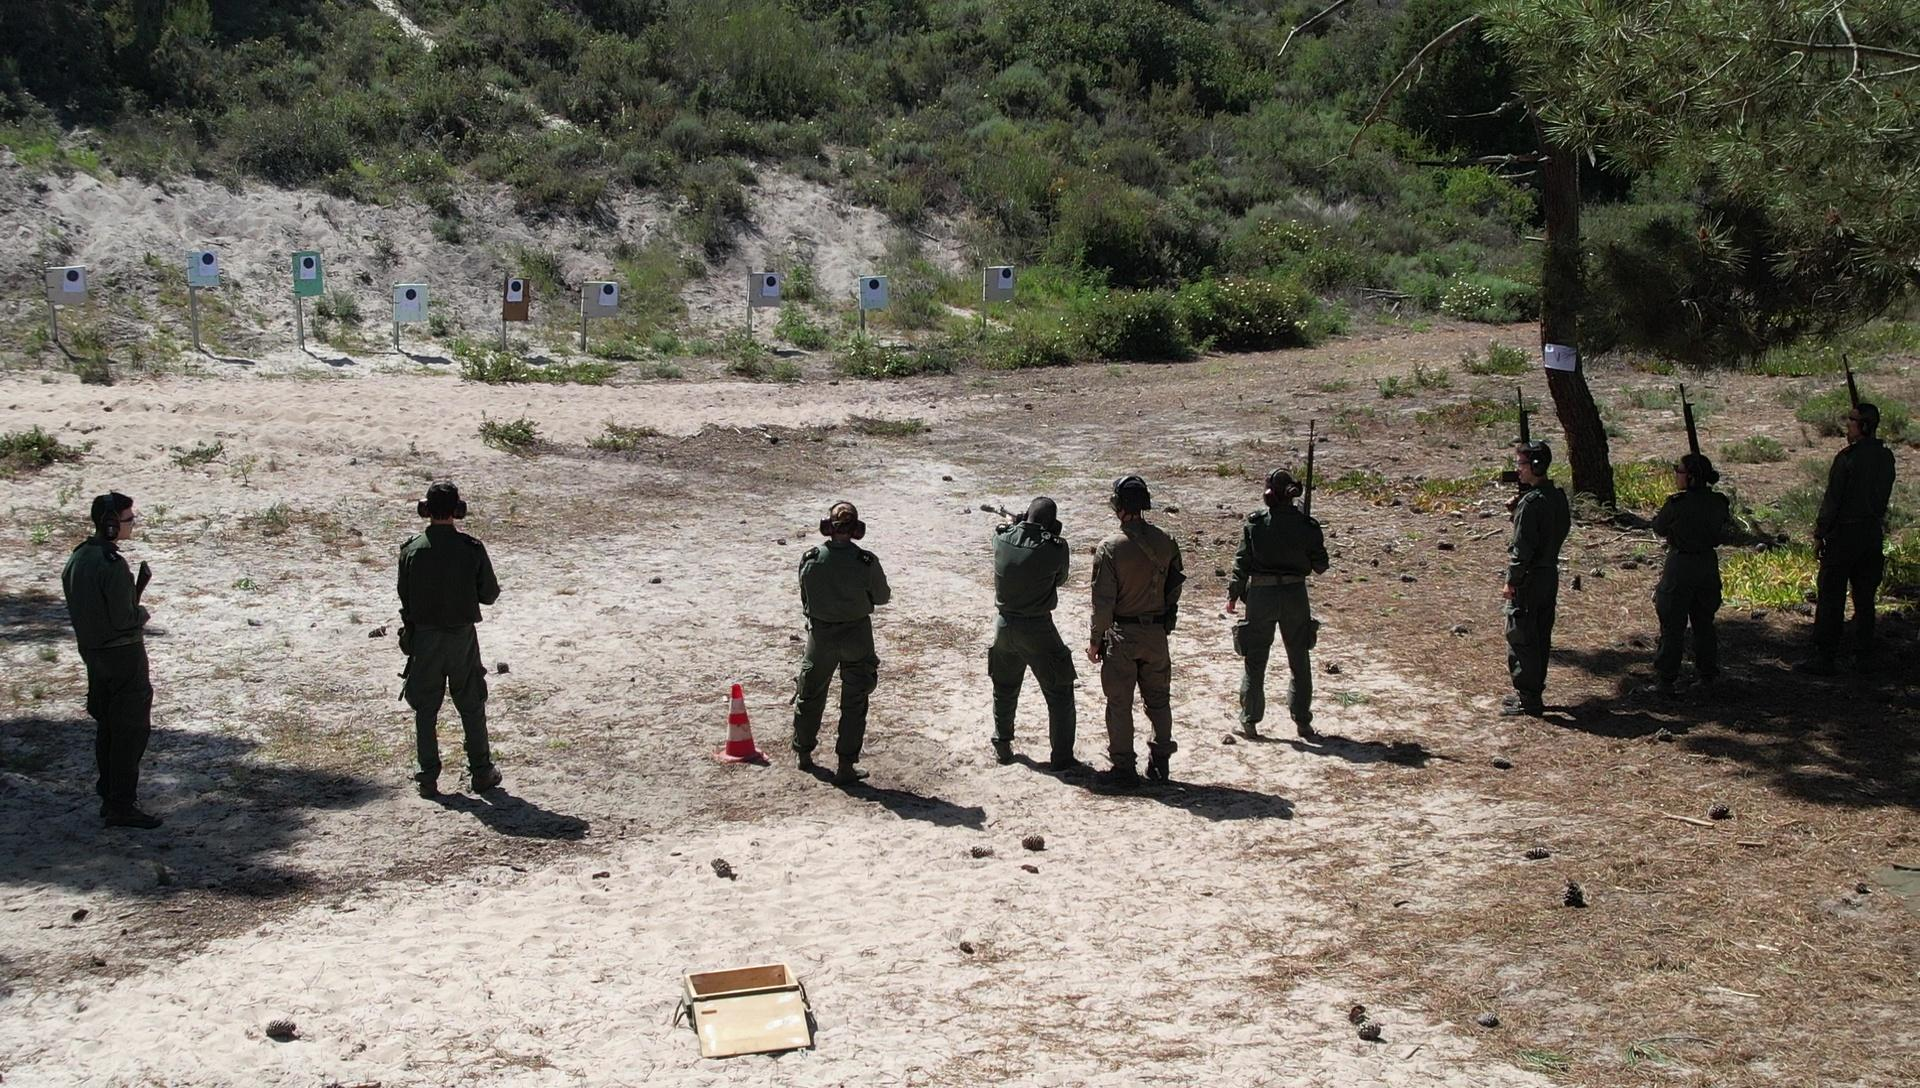Soldier: (353, 462, 537, 818), (51, 475, 208, 839), (1218, 410, 1335, 779), (964, 475, 1085, 801), (1629, 375, 1741, 708), (1089, 466, 1197, 810), (779, 487, 893, 797), (1481, 376, 1578, 732), (1805, 349, 1898, 688)
